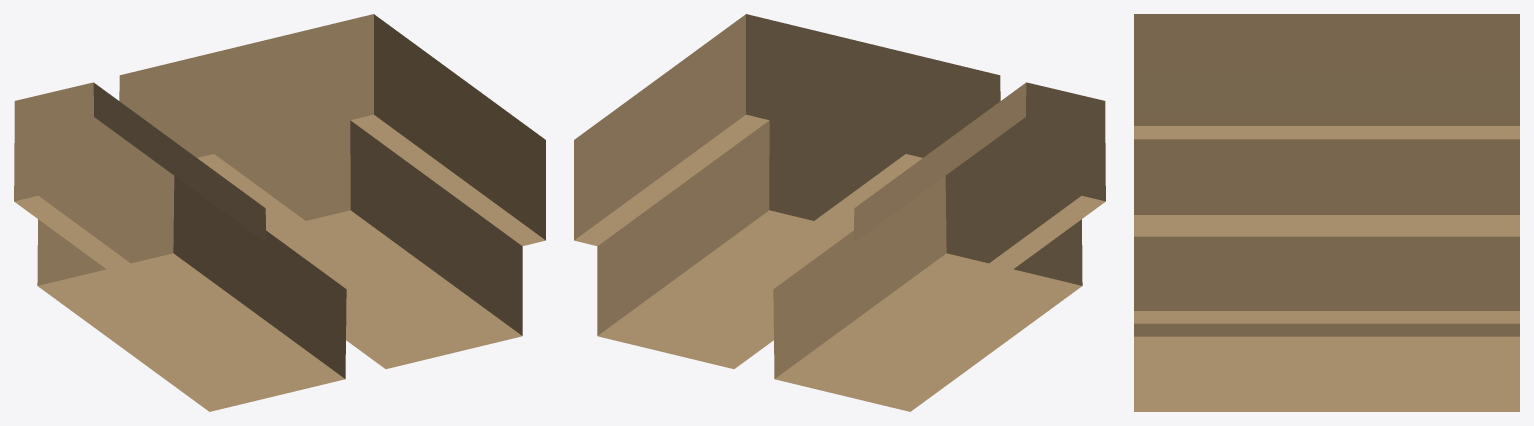
3 views of the same model, side by side, from view 1: azimuth 30°, elevation 25°; view 2: azimuth 150°, elevation 25°; view 3: azimuth 270°, elevation 25° (orthographic). The views are drawn at different scales.
Visible parts, largest first — view 1: 0_3_1_3_3_3_1_3_1; view 2: 0_3_1_3_3_3_1_3_1; view 3: 0_3_1_3_3_3_1_3_1.
Boxes of the visible parts, x1,y1,x2,y2 form: 0_3_1_3_3_3_1_3_1: (14, 14, 545, 411); 0_3_1_3_3_3_1_3_1: (574, 14, 1105, 411); 0_3_1_3_3_3_1_3_1: (1134, 14, 1519, 411).
Size of the model in its own units: 32.59 by 16.55 by 27.
